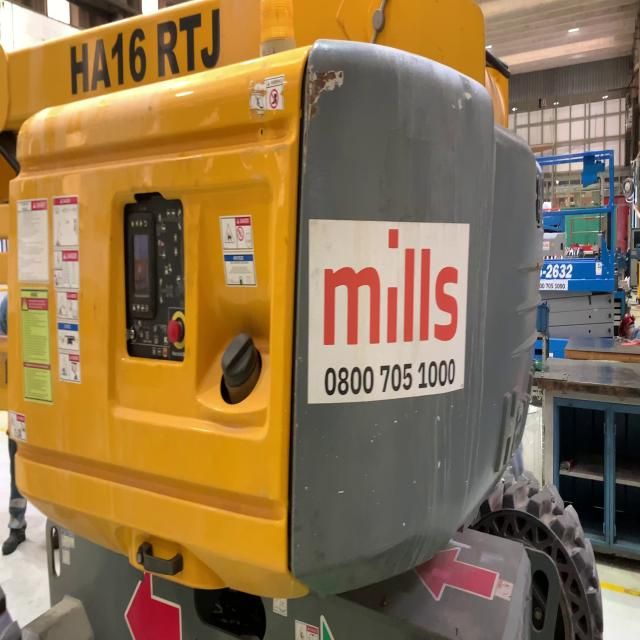Adesivos: (306, 215, 471, 408)
